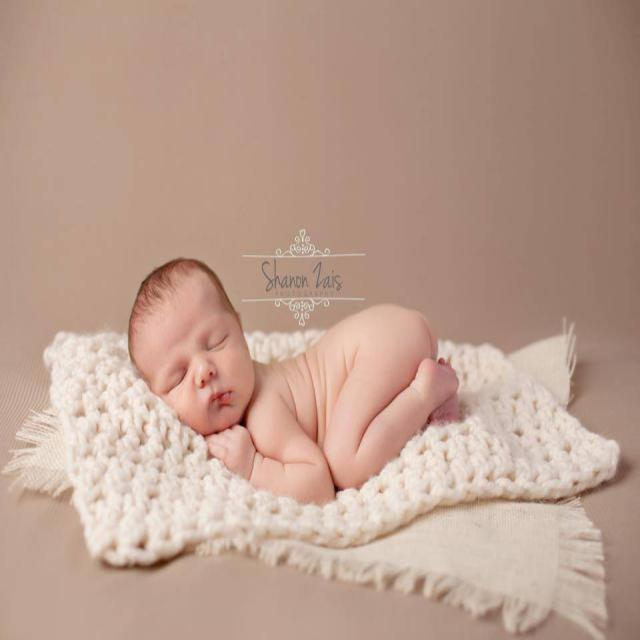blanket: (45, 334, 619, 565), (185, 498, 608, 638), (4, 409, 75, 495)
